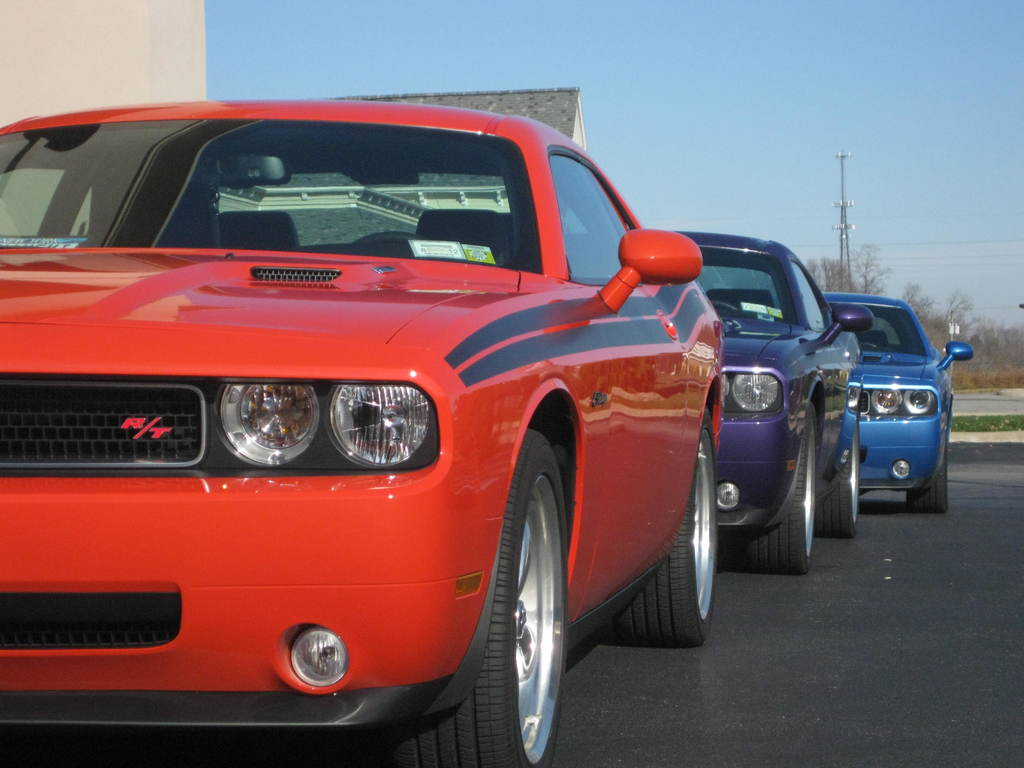Car: (0, 103, 726, 767), (681, 231, 872, 567), (825, 298, 975, 509)
